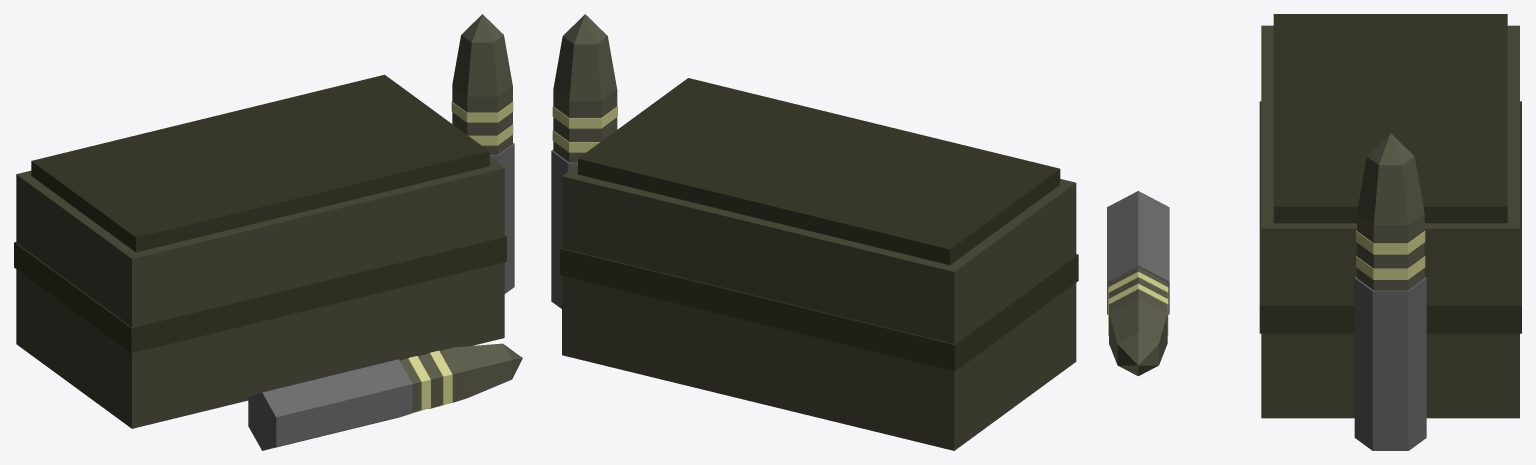
The model's file is ce_ammo2_rcl84_frag_c.obj.
3 views of the same model, side by side, from view 1: azimuth 30°, elevation 25°; view 2: azimuth 150°, elevation 25°; view 3: azimuth 270°, elevation 25° (orthographic). The views are drawn at different scales.
Parts seen in each view (by area): view 1: ce_ammo2_rcl84_frag_c_0, ce_ammo2_rcl84_frag_c_1, ce_ammo2_rcl84_frag_c_2, ce_ammo2_rcl84_frag_c_11, ce_ammo2_rcl84_frag_c_9, ce_ammo2_rcl84_frag_c_17, ce_ammo2_rcl84_frag_c_3, ce_ammo2_rcl84_frag_c_8, ce_ammo2_rcl84_frag_c_16, ce_ammo2_rcl84_frag_c_6, ce_ammo2_rcl84_frag_c_10, ce_ammo2_rcl84_frag_c_7 (+4 smaller); view 2: ce_ammo2_rcl84_frag_c_0, ce_ammo2_rcl84_frag_c_1, ce_ammo2_rcl84_frag_c_2, ce_ammo2_rcl84_frag_c_9, ce_ammo2_rcl84_frag_c_3, ce_ammo2_rcl84_frag_c_8, ce_ammo2_rcl84_frag_c_6, ce_ammo2_rcl84_frag_c_10, ce_ammo2_rcl84_frag_c_7; view 3: ce_ammo2_rcl84_frag_c_1, ce_ammo2_rcl84_frag_c_0, ce_ammo2_rcl84_frag_c_3, ce_ammo2_rcl84_frag_c_2, ce_ammo2_rcl84_frag_c_11, ce_ammo2_rcl84_frag_c_9, ce_ammo2_rcl84_frag_c_17, ce_ammo2_rcl84_frag_c_18, ce_ammo2_rcl84_frag_c_8, ce_ammo2_rcl84_frag_c_6, ce_ammo2_rcl84_frag_c_10, ce_ammo2_rcl84_frag_c_7 (+4 smaller).
Part boxes in pixels (bbox=[...]): ce_ammo2_rcl84_frag_c_0: bbox=[16, 157, 504, 428]; ce_ammo2_rcl84_frag_c_1: bbox=[31, 74, 489, 252]; ce_ammo2_rcl84_frag_c_2: bbox=[14, 235, 506, 353]; ce_ammo2_rcl84_frag_c_11: bbox=[248, 359, 412, 450]; ce_ammo2_rcl84_frag_c_9: bbox=[452, 35, 512, 96]; ce_ammo2_rcl84_frag_c_17: bbox=[455, 343, 512, 397]; ce_ammo2_rcl84_frag_c_3: bbox=[489, 143, 514, 293]; ce_ammo2_rcl84_frag_c_8: bbox=[452, 85, 512, 112]; ce_ammo2_rcl84_frag_c_16: bbox=[439, 347, 467, 403]; ce_ammo2_rcl84_frag_c_6: bbox=[452, 112, 512, 135]; ce_ammo2_rcl84_frag_c_10: bbox=[461, 14, 503, 42]; ce_ammo2_rcl84_frag_c_7: bbox=[451, 101, 513, 122]; ce_ammo2_rcl84_frag_c_0: bbox=[562, 165, 1076, 450]; ce_ammo2_rcl84_frag_c_1: bbox=[578, 78, 1060, 264]; ce_ammo2_rcl84_frag_c_2: bbox=[559, 247, 1078, 371]; ce_ammo2_rcl84_frag_c_9: bbox=[553, 36, 616, 100]; ce_ammo2_rcl84_frag_c_3: bbox=[551, 149, 577, 308]; ce_ammo2_rcl84_frag_c_8: bbox=[553, 89, 617, 117]; ce_ammo2_rcl84_frag_c_6: bbox=[553, 117, 617, 141]; ce_ammo2_rcl84_frag_c_10: bbox=[563, 14, 607, 44]; ce_ammo2_rcl84_frag_c_7: bbox=[552, 106, 617, 128]; ce_ammo2_rcl84_frag_c_1: bbox=[1273, 14, 1507, 223]; ce_ammo2_rcl84_frag_c_0: bbox=[1261, 25, 1519, 418]; ce_ammo2_rcl84_frag_c_3: bbox=[1354, 277, 1426, 450]; ce_ammo2_rcl84_frag_c_2: bbox=[1259, 101, 1521, 333]; ce_ammo2_rcl84_frag_c_11: bbox=[1107, 191, 1169, 314]; ce_ammo2_rcl84_frag_c_9: bbox=[1357, 156, 1424, 225]; ce_ammo2_rcl84_frag_c_17: bbox=[1109, 297, 1167, 364]; ce_ammo2_rcl84_frag_c_18: bbox=[1117, 333, 1158, 376]; ce_ammo2_rcl84_frag_c_8: bbox=[1357, 213, 1424, 243]; ce_ammo2_rcl84_frag_c_6: bbox=[1357, 242, 1424, 268]; ce_ammo2_rcl84_frag_c_10: bbox=[1367, 133, 1414, 165]; ce_ammo2_rcl84_frag_c_7: bbox=[1356, 230, 1425, 254].
Bounding box in the file's own units: 0.9087 × 0.546 × 0.6737.
